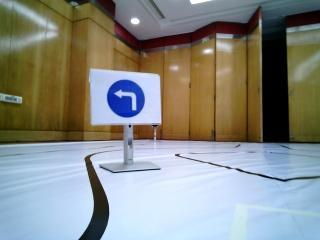left: (90, 67, 161, 124)
